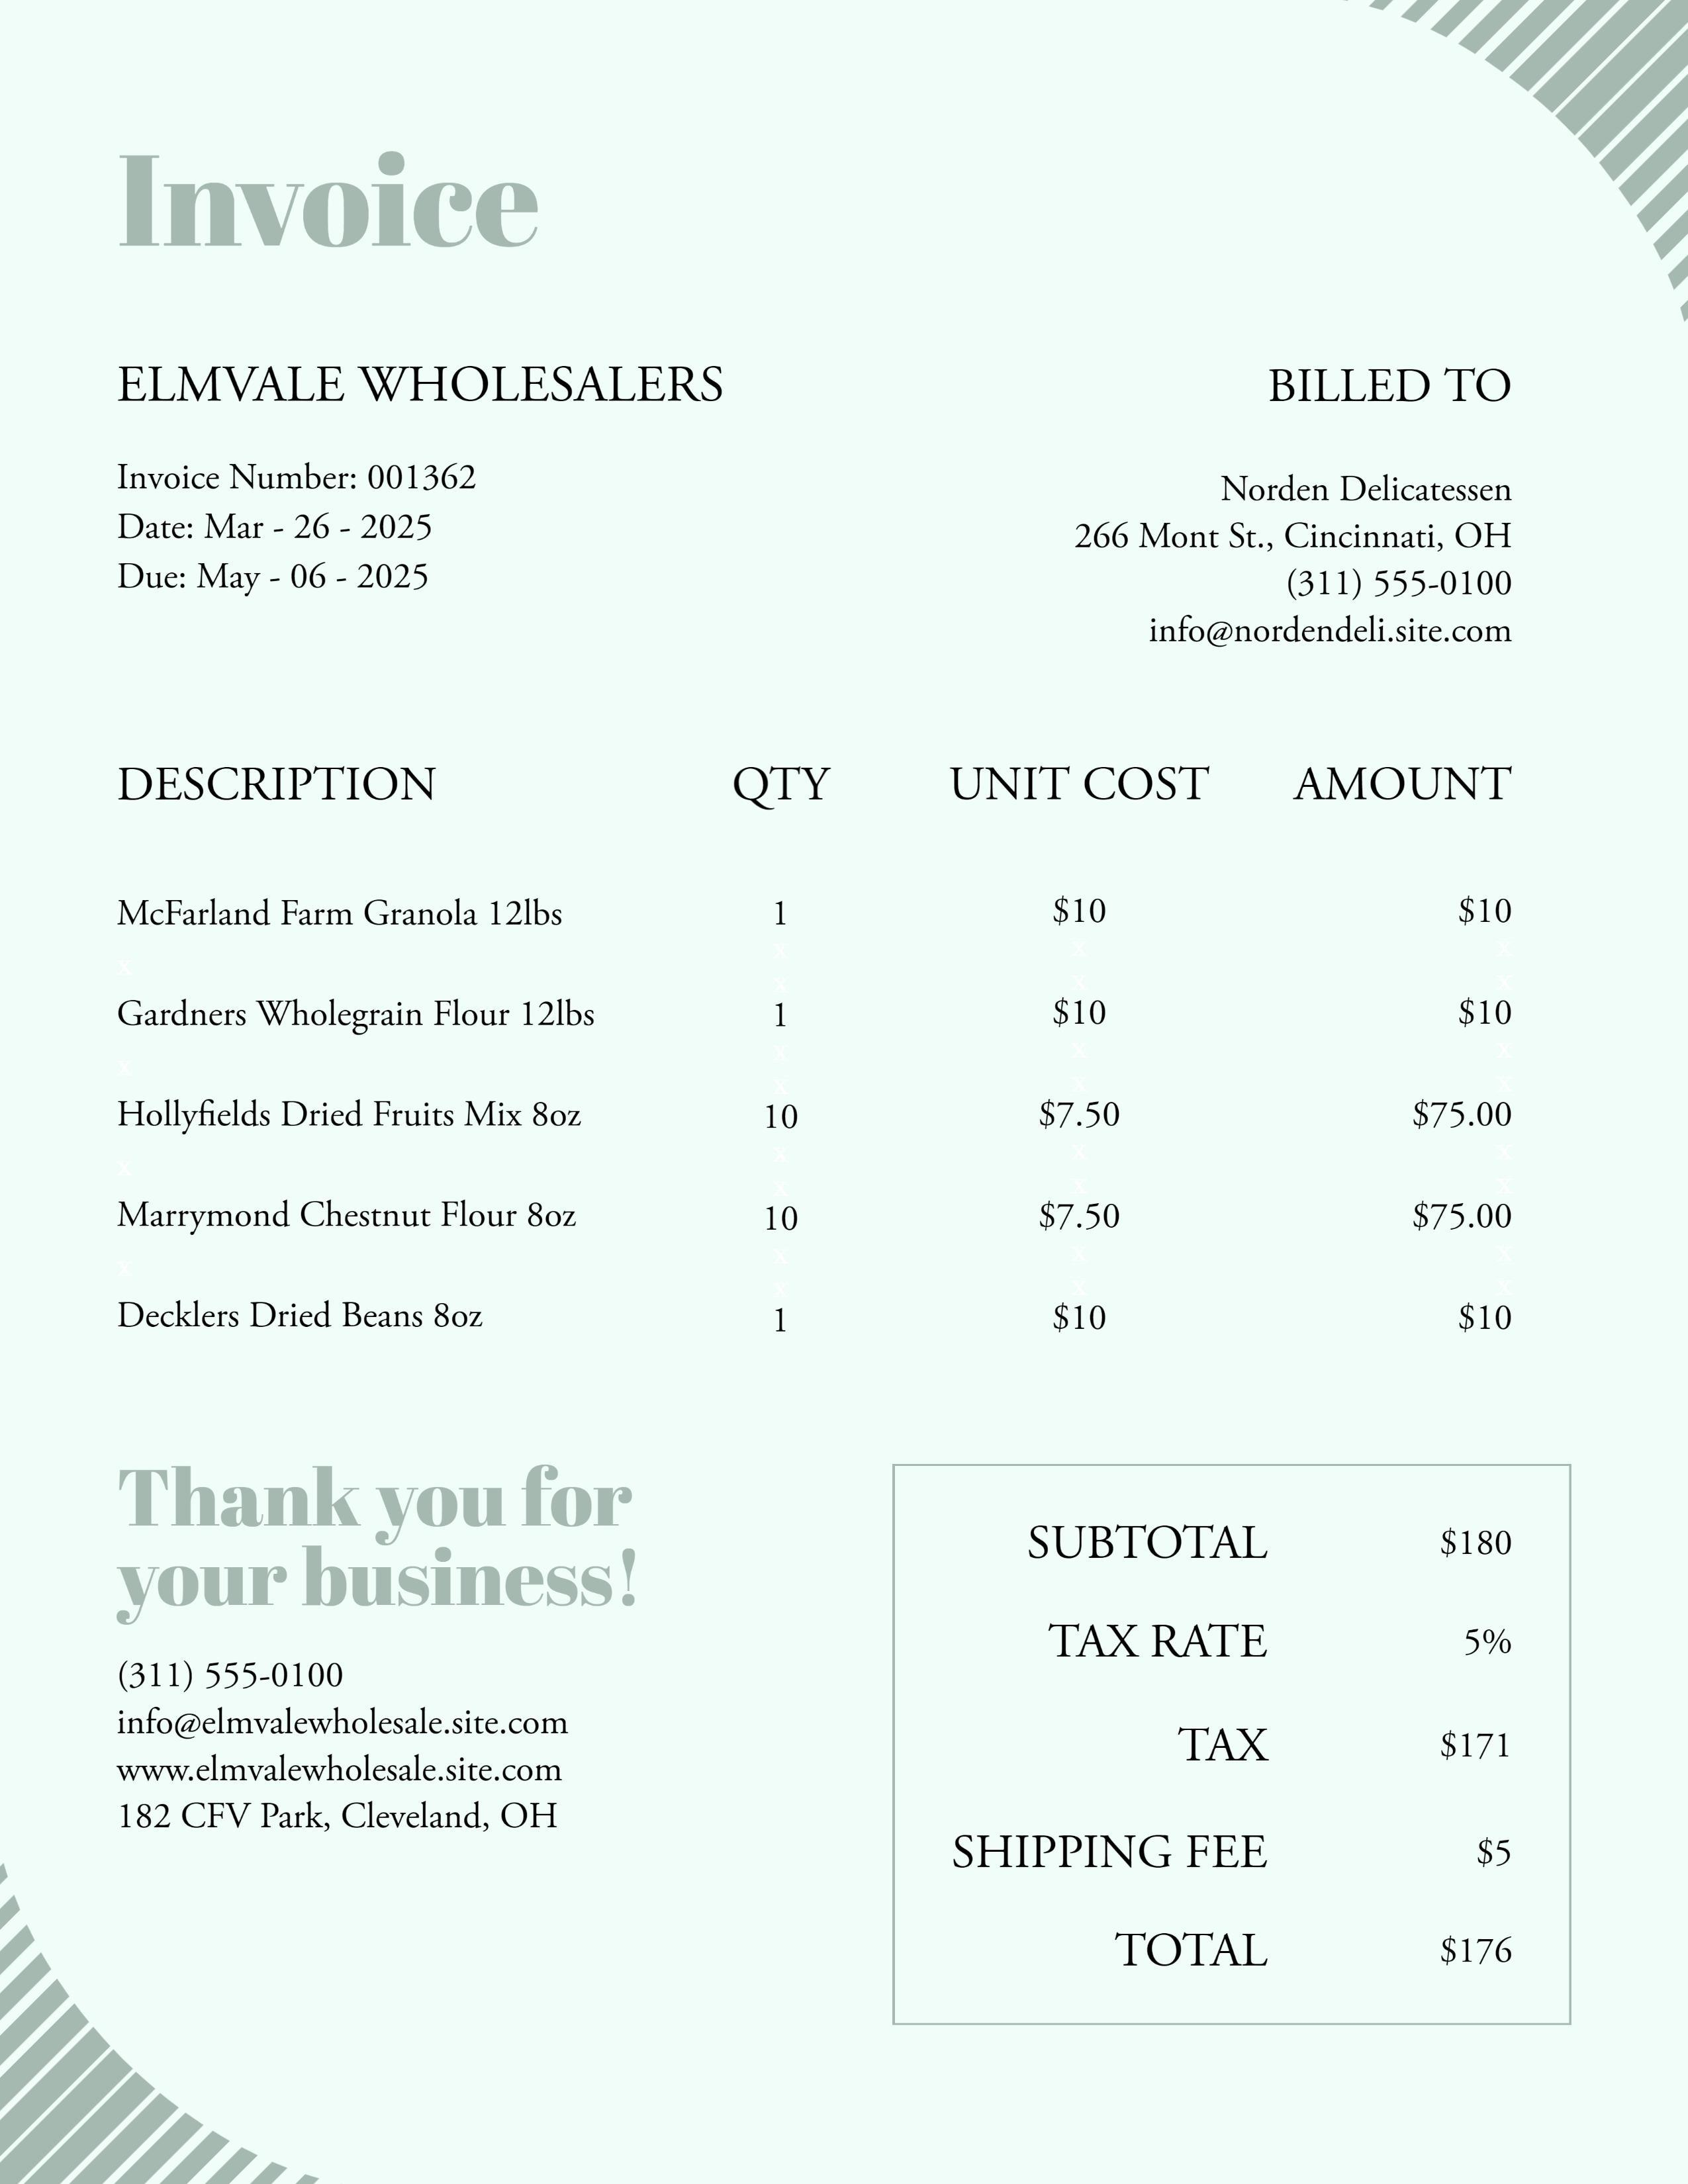ROI: (96, 752, 1523, 1340), (931, 1496, 1555, 2005), (1046, 351, 1585, 668), (83, 447, 507, 615), (126, 344, 732, 434)
